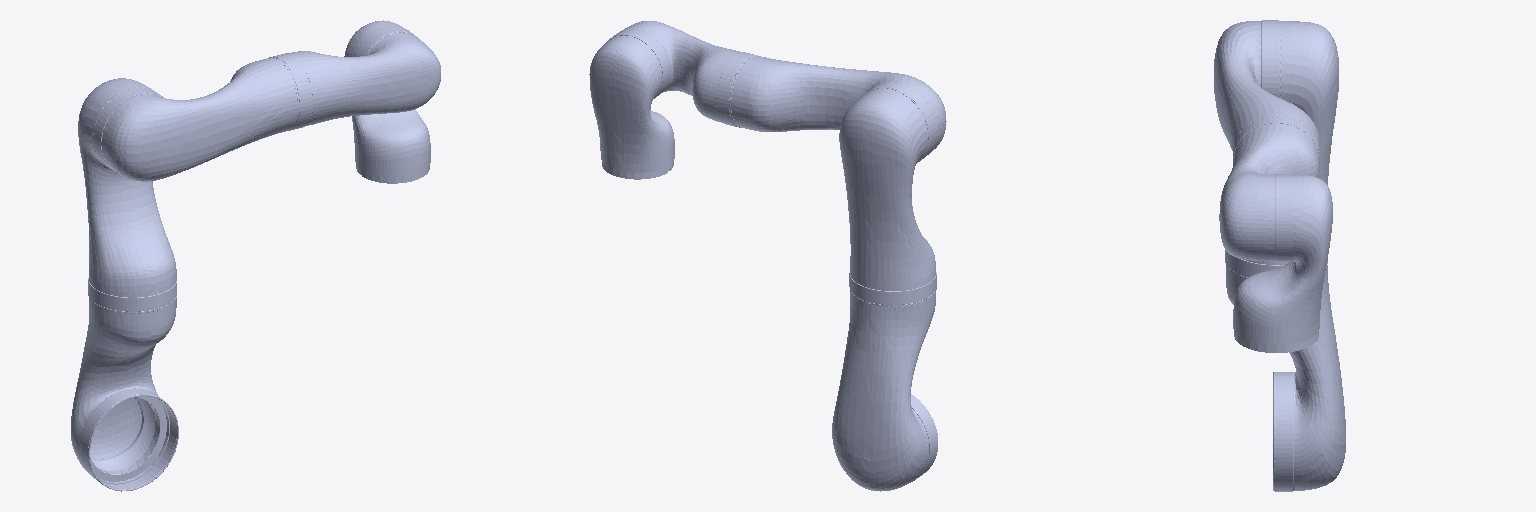
robot.urdf — tl_tcb610v:
<?xml version="1.0" encoding="utf-8"?>
<!-- This URDF was automatically created by SolidWorks to URDF Exporter! Originally created by Stephen Brawner (brawner@gmail.com) 
     Commit Version: 1.6.0-4-g7f85cfe  Build Version: 1.6.7995.38578
     For more information, please see http://wiki.ros.org/sw_urdf_exporter -->
<robot
  name="tl_tcb610v">
  <link
    name="link0">
    <inertial>
      <origin
        xyz="-0.0020391678669849 0.000208461233542913 0.043797046431842"
        rpy="0 0 0" />
      <mass
        value="0.230943297728627" />
      <inertia
        ixx="0.000578857931988579"
        ixy="2.49644295158391E-06"
        ixz="-3.62761994221811E-06"
        iyy="0.000597326060992727"
        iyz="8.87603974516207E-07"
        izz="0.000630268815467399" />
    </inertial>
    <visual>
      <origin
        xyz="0 0 0"
        rpy="0 0 0" />
      <geometry>
        <mesh
          filename="package://tl_description/meshes/tl_tcb610v/link0.STL" />
      </geometry>
      <material
        name="">
        <color
          rgba="0.792156862745098 0.819607843137255 0.933333333333333 1" />
      </material>
    </visual>
    <collision>
      <origin
        xyz="0 0 0"
        rpy="0 0 0" />
      <geometry>
        <mesh
          filename="package://tl_description/meshes/tl_tcb610v/link0.STL" />
      </geometry>
    </collision>
  </link>
  <link
    name="link1">
    <inertial>
      <origin
        xyz="-2.8259283596747E-06 -0.0149440554612562 0.0760738628611229"
        rpy="0 0 0" />
      <mass
        value="0.188795049535535" />
      <inertia
        ixx="0.000644330974536614"
        ixy="5.55804168467122E-08"
        ixz="-5.40921744937968E-08"
        iyy="0.000669839544820847"
        iyz="0.000101917330586459"
        izz="0.000292784373513458" />
    </inertial>
    <visual>
      <origin
        xyz="0 0 0"
        rpy="0 0 0" />
      <geometry>
        <mesh
          filename="package://tl_description/meshes/tl_tcb610v/link1.STL" />
      </geometry>
      <material
        name="">
        <color
          rgba="0.792156862745098 0.819607843137255 0.933333333333333 1" />
      </material>
    </visual>
    <collision>
      <origin
        xyz="0 0 0"
        rpy="0 0 0" />
      <geometry>
        <mesh
          filename="package://tl_description/meshes/tl_tcb610v/link1.STL" />
      </geometry>
    </collision>
  </link>
  <joint
    name="joint1"
    type="revolute">
    <origin
      xyz="0 0 0.12215"
      rpy="0 0 0" />
    <parent
      link="link0" />
    <child
      link="link1" />
    <axis
      xyz="0 0 1" />
    <limit
      lower="-3.1416"
      upper="3.1416"
      effort="0"
      velocity="0" />
  </joint>
  <link
    name="link2">
    <inertial>
      <origin
        xyz="-3.42676085123178E-06 -0.154403142650609 0.0117350347110016"
        rpy="0 0 0" />
      <mass
        value="0.336430297526443" />
      <inertia
        ixx="0.00409551603475422"
        ixy="2.26687509762536E-07"
        ixz="-4.06891356650989E-08"
        iyy="0.000379304295517217"
        iyz="-6.46118276834014E-05"
        izz="0.00414165928164998" />
    </inertial>
    <visual>
      <origin
        xyz="0 0 0"
        rpy="0 0 0" />
      <geometry>
        <mesh
          filename="package://tl_description/meshes/tl_tcb610v/link2.STL" />
      </geometry>
      <material
        name="">
        <color
          rgba="0.792156862745098 0.819607843137255 0.933333333333333 1" />
      </material>
    </visual>
    <collision>
      <origin
        xyz="0 0 0"
        rpy="0 0 0" />
      <geometry>
        <mesh
          filename="package://tl_description/meshes/tl_tcb610v/link2.STL" />
      </geometry>
    </collision>
  </link>
  <joint
    name="joint2"
    type="revolute">
    <origin
      xyz="0 0.00665 0.14085"
      rpy="-1.5708 0 0" />
    <parent
      link="link1" />
    <child
      link="link2" />
    <axis
      xyz="0 0 -1" />
    <limit
      lower="-2.3737"
      upper="2.3737"
      effort="0"
      velocity="0" />
  </joint>
  <link
    name="link3">
    <inertial>
      <origin
        xyz="2.74559781703984E-06 0.0654996486979357 0.0144299039917341"
        rpy="0 0 0" />
      <mass
        value="0.145368242331447" />
      <inertia
        ixx="0.000526467477352134"
        ixy="2.65498966508703E-08"
        ixz="8.84207811305579E-09"
        iyy="0.000131598083767296"
        iyz="7.17192953236569E-05"
        izz="0.000544513480603788" />
    </inertial>
    <visual>
      <origin
        xyz="0 0 0"
        rpy="0 0 0" />
      <geometry>
        <mesh
          filename="package://tl_description/meshes/tl_tcb610v/link3.STL" />
      </geometry>
      <material
        name="">
        <color
          rgba="0.792156862745098 0.819607843137255 0.933333333333333 1" />
      </material>
    </visual>
    <collision>
      <origin
        xyz="0 0 0"
        rpy="0 0 0" />
      <geometry>
        <mesh
          filename="package://tl_description/meshes/tl_tcb610v/link3.STL" />
      </geometry>
    </collision>
  </link>
  <joint
    name="joint3"
    type="revolute">
    <origin
      xyz="0 -0.3205 -0.0118"
      rpy="3.1416 0 1.5708" />
    <parent
      link="link2" />
    <child
      link="link3" />
    <axis
      xyz="0 0 1" />
    <limit
      lower="-0.9935"
      upper="4.1423"
      effort="0"
      velocity="0" />
  </joint>
  <link
    name="link4">
    <inertial>
      <origin
        xyz="5.11048010614984E-06 -0.0131445598588105 0.0626746043886209"
        rpy="0 0 0" />
      <mass
        value="0.0899817886579456" />
      <inertia
        ixx="0.000204808490641905"
        ixy="1.16223798609967E-08"
        ixz="-4.0764479399279E-08"
        iyy="0.00020796973802648"
        iyz="3.60478115182964E-05"
        izz="7.75189800149227E-05" />
    </inertial>
    <visual>
      <origin
        xyz="0 0 0"
        rpy="0 0 0" />
      <geometry>
        <mesh
          filename="package://tl_description/meshes/tl_tcb610v/link4.STL" />
      </geometry>
      <material
        name="">
        <color
          rgba="0.792156862745098 0.819607843137255 0.933333333333333 1" />
      </material>
    </visual>
    <collision>
      <origin
        xyz="0 0 0"
        rpy="0 0 0" />
      <geometry>
        <mesh
          filename="package://tl_description/meshes/tl_tcb610v/link4.STL" />
      </geometry>
    </collision>
  </link>
  <joint
    name="joint4"
    type="revolute">
    <origin
      xyz="0 0.16615 -0.00515"
      rpy="-1.5708 0 0" />
    <parent
      link="link3" />
    <child
      link="link4" />
    <axis
      xyz="0 0 1" />
    <limit
      lower="-3.1416"
      upper="3.1416"
      effort="0"
      velocity="0" />
  </joint>
  <link
    name="link5">
    <inertial>
      <origin
        xyz="-1.29749983007308E-05 -0.0398707312600605 0.00873816110028369"
        rpy="0 0 0" />
      <mass
        value="0.0915266768417473" />
      <inertia
        ixx="0.000167005961446421"
        ixy="3.62631341241671E-08"
        ixz="1.27355290238806E-08"
        iyy="8.07130413912502E-05"
        iyz="-3.15887030571554E-05"
        izz="0.000170834721676804" />
    </inertial>
    <visual>
      <origin
        xyz="0 0 0"
        rpy="0 0 0" />
      <geometry>
        <mesh
          filename="package://tl_description/meshes/tl_tcb610v/link5.STL" />
      </geometry>
      <material
        name="">
        <color
          rgba="0.792156862745098 0.819607843137255 0.933333333333333 1" />
      </material>
    </visual>
    <collision>
      <origin
        xyz="0 0 0"
        rpy="0 0 0" />
      <geometry>
        <mesh
          filename="package://tl_description/meshes/tl_tcb610v/link5.STL" />
      </geometry>
    </collision>
  </link>
  <joint
    name="joint5"
    type="revolute">
    <origin
      xyz="0 0.00615 0.11335"
      rpy="-1.5708 1.5708 0" />
    <parent
      link="link4" />
    <child
      link="link5" />
    <axis
      xyz="0 0 1" />
    <limit
      lower="-3.8386"
      upper="0.6970"
      effort="0"
      velocity="0" />
  </joint>
  <link
    name="link6">
    <inertial>
      <origin
        xyz="-0.0287892704816069 -5.42700414127995E-05 0.0373502803976096"
        rpy="0 0 0" />
      <mass
        value="0.125131844809034" />
      <inertia
        ixx="0.000100142378011786"
        ixy="1.95738626149855E-07"
        ixz="2.86300184429415E-05"
        iyy="0.000255794106202963"
        iyz="-1.08179596371566E-08"
        izz="0.00029439514869526" />
    </inertial>
    <visual>
      <origin
        xyz="0 0 0"
        rpy="0 0 0" />
      <geometry>
        <mesh
          filename="package://tl_description/meshes/tl_tcb610v/link6.STL" />
      </geometry>
      <material
        name="">
        <color
          rgba="0.792156862745098 0.819607843137255 0.933333333333333 1" />
      </material>
    </visual>
    <collision>
      <origin
        xyz="0 0 0"
        rpy="0 0 0" />
      <geometry>
        <mesh
          filename="package://tl_description/meshes/tl_tcb610v/link6.STL" />
      </geometry>
    </collision>
  </link>
  <joint
    name="joint6"
    type="revolute">
    <origin
      xyz="0 -0.10615 -0.00615"
      rpy="1.5708 0 0" />
    <parent
      link="link5" />
    <child
      link="link6" />
    <axis
      xyz="0 0 1" />
    <limit
      lower="-3.1416"
      upper="3.1416"
      effort="0"
      velocity="0" />
  </joint>
  <link
    name="camera_link">
    <inertial>
      <origin
        xyz="0.00587064810111193 0.00117308166591808 0.0124843809166952"
        rpy="0 0 0" />
      <mass
        value="0.0471699656666114" />
      <inertia
        ixx="2.87281209040374E-05"
        ixy="4.20816223009167E-07"
        ixz="-4.33349878981891E-09"
        iyy="4.39204835579367E-06"
        iyz="-5.84035676488178E-10"
        izz="2.89731252411652E-05" />
    </inertial>
    <visual>
      <origin
        xyz="0 0 0"
        rpy="0 0 0" />
      <geometry>
        <mesh
          filename="package://tl_description/meshes/tl_tcb610v/camera_link.STL" />
      </geometry>
      <material
        name="">
        <color
          rgba="0.792156862745098 0.819607843137255 0.933333333333333 1" />
      </material>
    </visual>
    <collision>
      <origin
        xyz="0 0 0"
        rpy="0 0 0" />
      <geometry>
        <mesh
          filename="package://tl_description/meshes/tl_tcb610v/camera_link.STL" />
      </geometry>
    </collision>
  </link>
  <joint
    name="camera_joint"
    type="fixed">
    <origin
      xyz="-0.078 0 0.046631"
      rpy="0 -1.5708 0" />
    <parent
      link="link6" />
    <child
      link="camera_link" />
    <axis
      xyz="0 0 0" />
  </joint>
</robot>

--- Render facts (derived) ---
The picture shows the robot from 3 angles, left to right: view 1: azimuth 30°, elevation 25°; view 2: azimuth 150°, elevation 25°; view 3: azimuth 270°, elevation 25°; orthographic projection.
Model tl_tcb610v with 8 links and 7 joints (6 revolute, 1 fixed), rooted at link0, posed every joint at zero.
Visible links, largest first — view 1: link2, link3, link4, link5; view 2: link2, link3, link5, link4; view 3: link2, link5, link4, link3.
Boxes of the visible links, left/top/right/bottom form: link2: left=71, top=78, right=178, bottom=491; link3: left=92, top=57, right=297, bottom=181; link4: left=269, top=32, right=440, bottom=130; link5: left=344, top=20, right=430, bottom=183; link2: left=832, top=88, right=937, bottom=491; link3: left=731, top=56, right=946, bottom=163; link5: left=589, top=29, right=674, bottom=179; link4: left=622, top=21, right=757, bottom=127; link2: left=1225, top=21, right=1345, bottom=491; link5: left=1233, top=174, right=1332, bottom=352; link4: left=1219, top=114, right=1319, bottom=260; link3: left=1214, top=20, right=1319, bottom=150.
Size in the robot's own frame: 0.3633 by 0.1071 by 0.4103 metres.
4 mesh visuals loaded from 8 distinct referenced files (4 binary STL); not drawn: 4 (reference not matched to a file when rendering).
